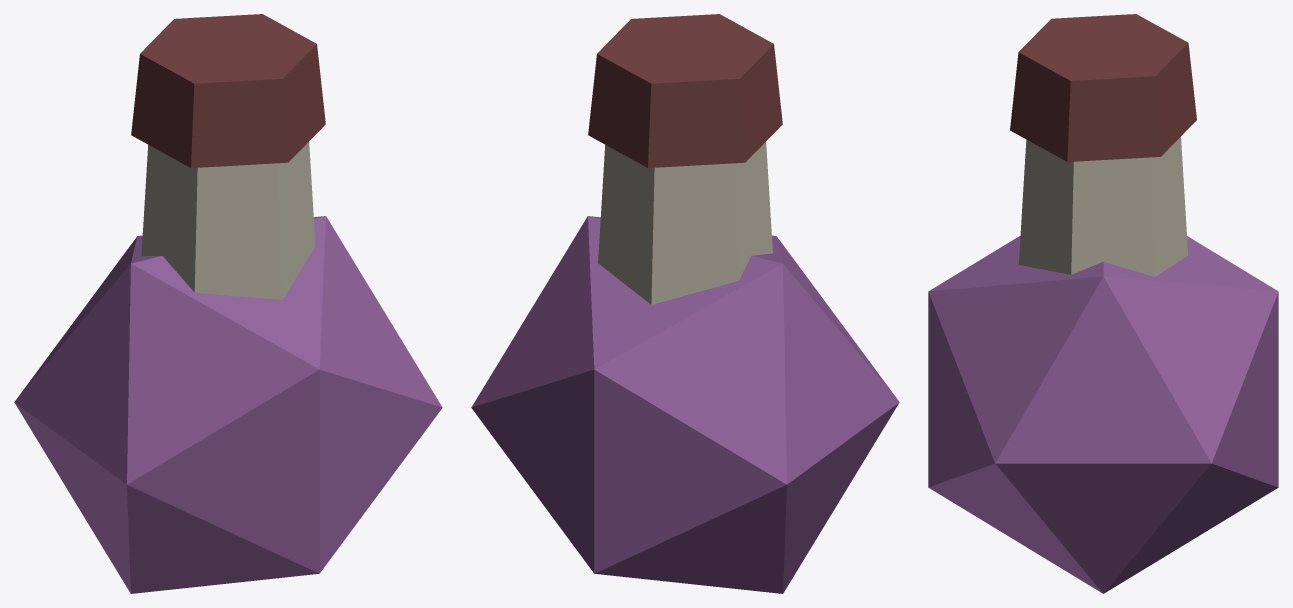
File: potion.glb
3 views of the same model, side by side, from view 1: azimuth 30°, elevation 25°; view 2: azimuth 150°, elevation 25°; view 3: azimuth 270°, elevation 25° (orthographic). The views are drawn at different scales.
Visible parts, largest first — view 1: potion; view 2: potion; view 3: potion.
Boxes of the visible parts, box(x1,y1,x2,y2) form: potion: box(14, 14, 442, 593); potion: box(471, 14, 899, 593); potion: box(928, 14, 1278, 593).
Size of the model in its own units: 0.2042 by 0.3221 by 0.2042.
